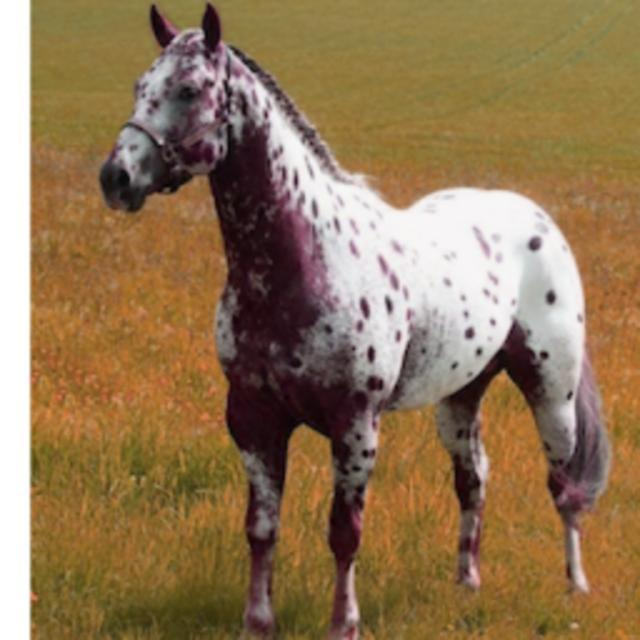Horse: (95, 0, 620, 638)
